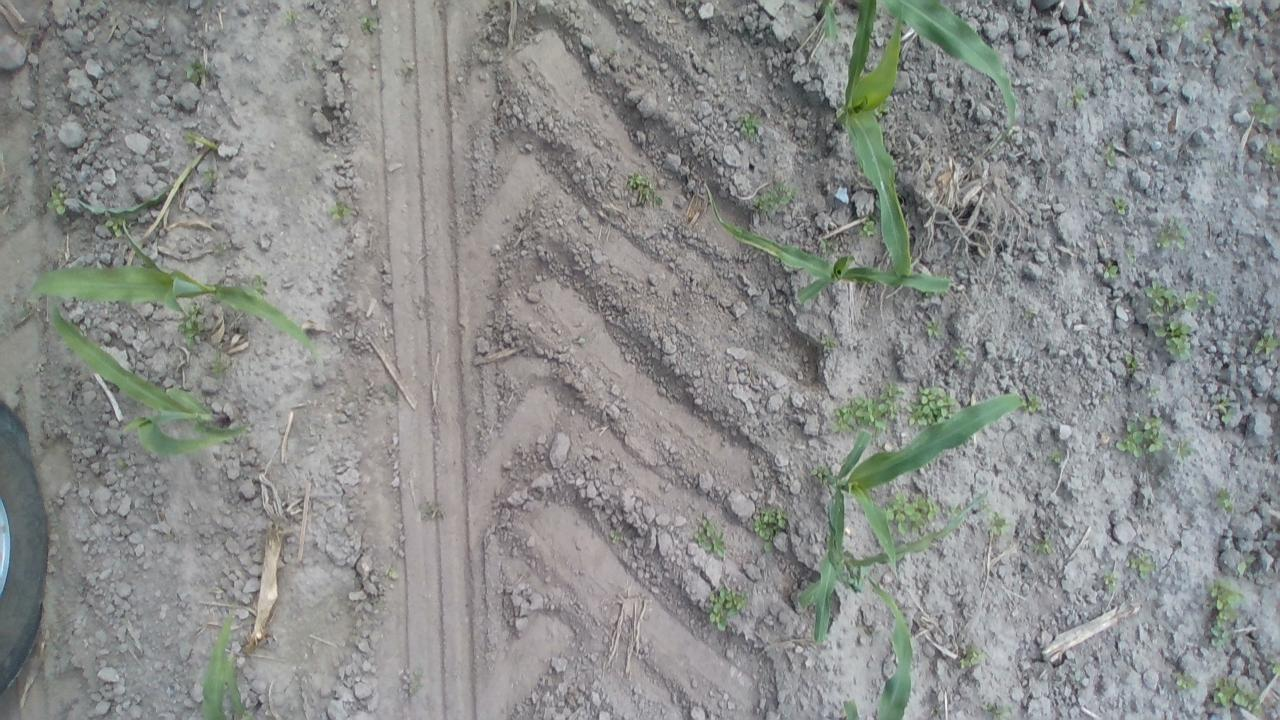Maize: (15, 218, 324, 370), (44, 264, 251, 463), (827, 391, 1026, 578), (702, 177, 954, 304), (798, 490, 991, 643), (822, 1, 1016, 146), (833, 0, 914, 285), (839, 578, 915, 720), (198, 600, 248, 720)
Weeds: (1144, 276, 1220, 362), (826, 380, 904, 434), (880, 491, 944, 541), (1205, 578, 1245, 651), (906, 382, 961, 428), (1110, 413, 1168, 455), (702, 586, 748, 633), (1206, 679, 1266, 714), (746, 180, 796, 217), (752, 510, 791, 552), (1242, 87, 1280, 128), (1150, 215, 1191, 251), (694, 516, 727, 560), (627, 172, 664, 208), (178, 300, 204, 342), (326, 201, 358, 224), (1250, 332, 1278, 358), (957, 644, 984, 670), (183, 130, 218, 150), (1122, 555, 1150, 579), (1227, 1, 1246, 34), (185, 60, 208, 86), (1212, 397, 1234, 424), (48, 186, 66, 218), (734, 116, 758, 140), (809, 464, 834, 487), (1024, 390, 1048, 413), (1259, 139, 1280, 165), (1124, 0, 1148, 22), (1210, 491, 1234, 513), (988, 511, 1009, 536), (1235, 555, 1259, 574), (358, 15, 381, 34), (990, 702, 1014, 720), (1168, 12, 1192, 30), (818, 336, 839, 356), (951, 346, 974, 364), (1071, 82, 1088, 106), (408, 666, 422, 694), (1100, 137, 1114, 165), (818, 236, 839, 254), (1114, 196, 1132, 216), (606, 526, 624, 545), (1173, 440, 1195, 455), (198, 169, 215, 188), (1100, 264, 1120, 280), (926, 318, 942, 338), (862, 216, 876, 238), (1124, 356, 1146, 370), (1176, 676, 1194, 693), (1030, 541, 1050, 556), (382, 566, 399, 580), (106, 220, 120, 235), (1103, 572, 1116, 586), (1202, 26, 1212, 44), (1048, 450, 1061, 463), (1272, 661, 1280, 679)
